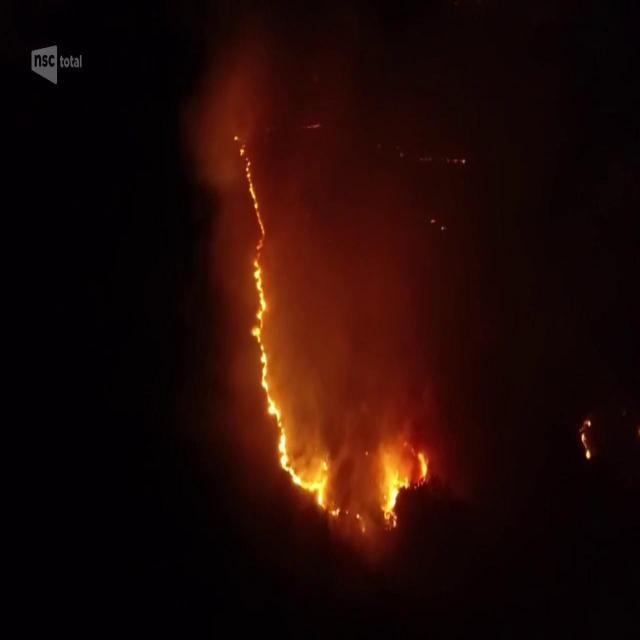Fire: (237, 146, 342, 520), (380, 447, 424, 518), (578, 418, 594, 460)
